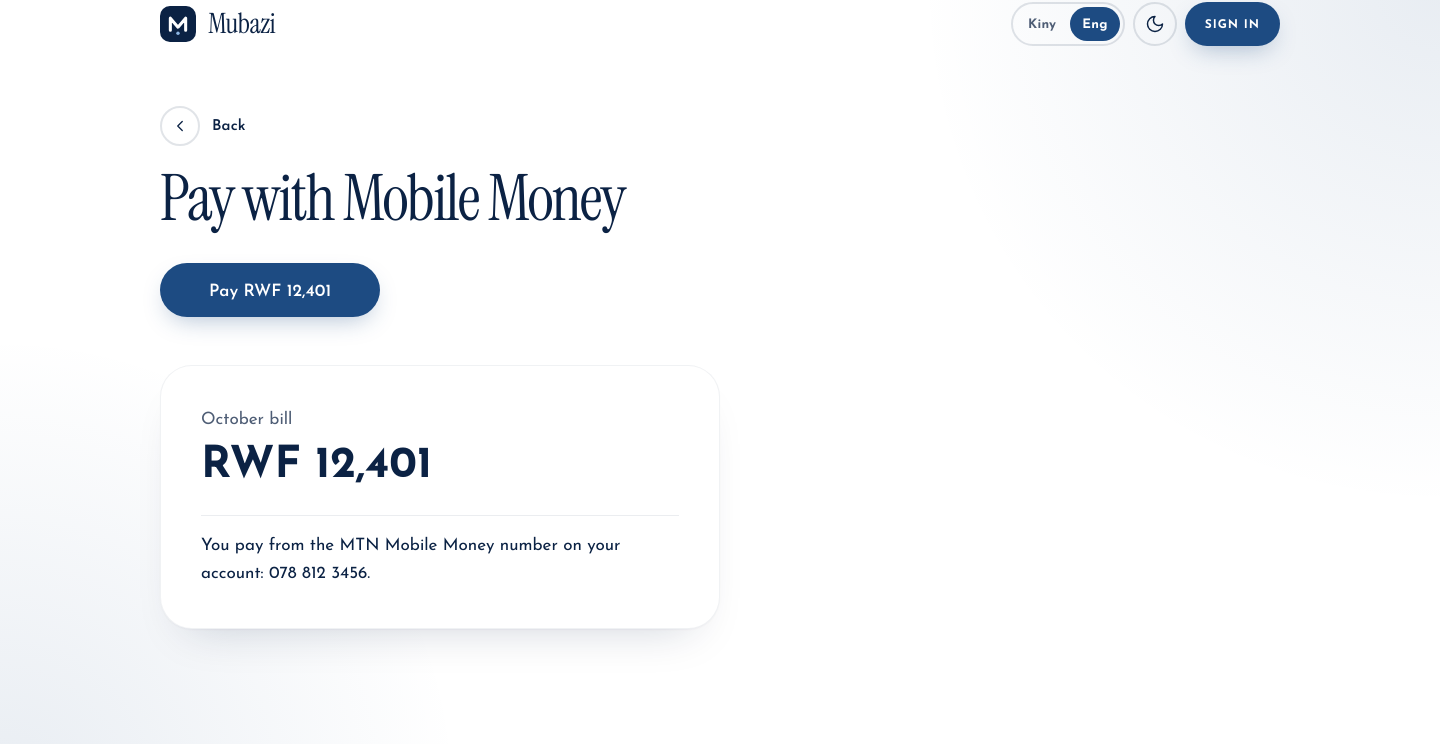
Test: Payment › when paying by MoMo Pay, should show the code to dial, then wait for WASAC instead of saying paid
Click the button "Pay RWF 12,401" at {"x": 270, "y": 290}, box [160,263,380,317]
(page scrolled)
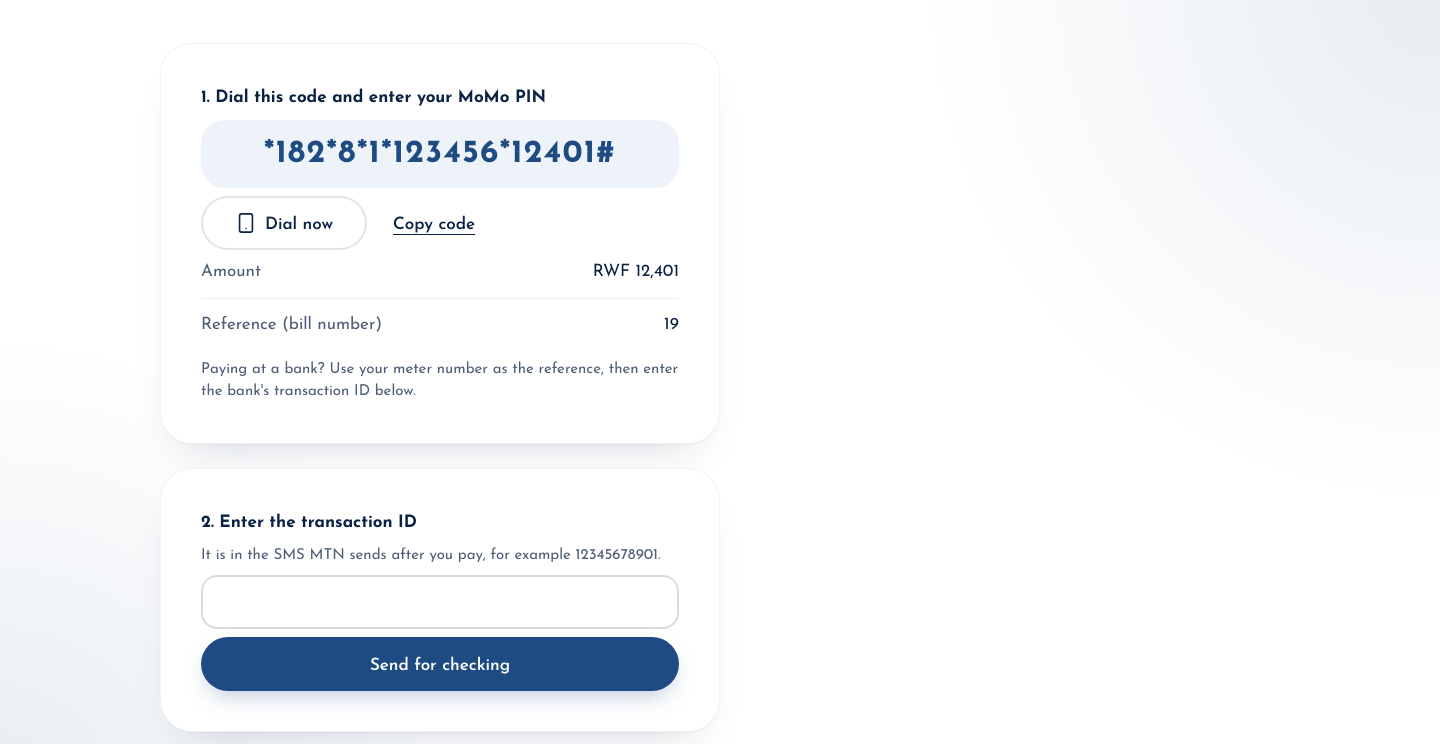
Now the text "*182*8*1*123456*12401#" is shown, box [264,138,616,170]
Type "no!" into the field labelled "2. Enter the transaction ID" at {"x": 440, "y": 602}, box [201,575,679,629]
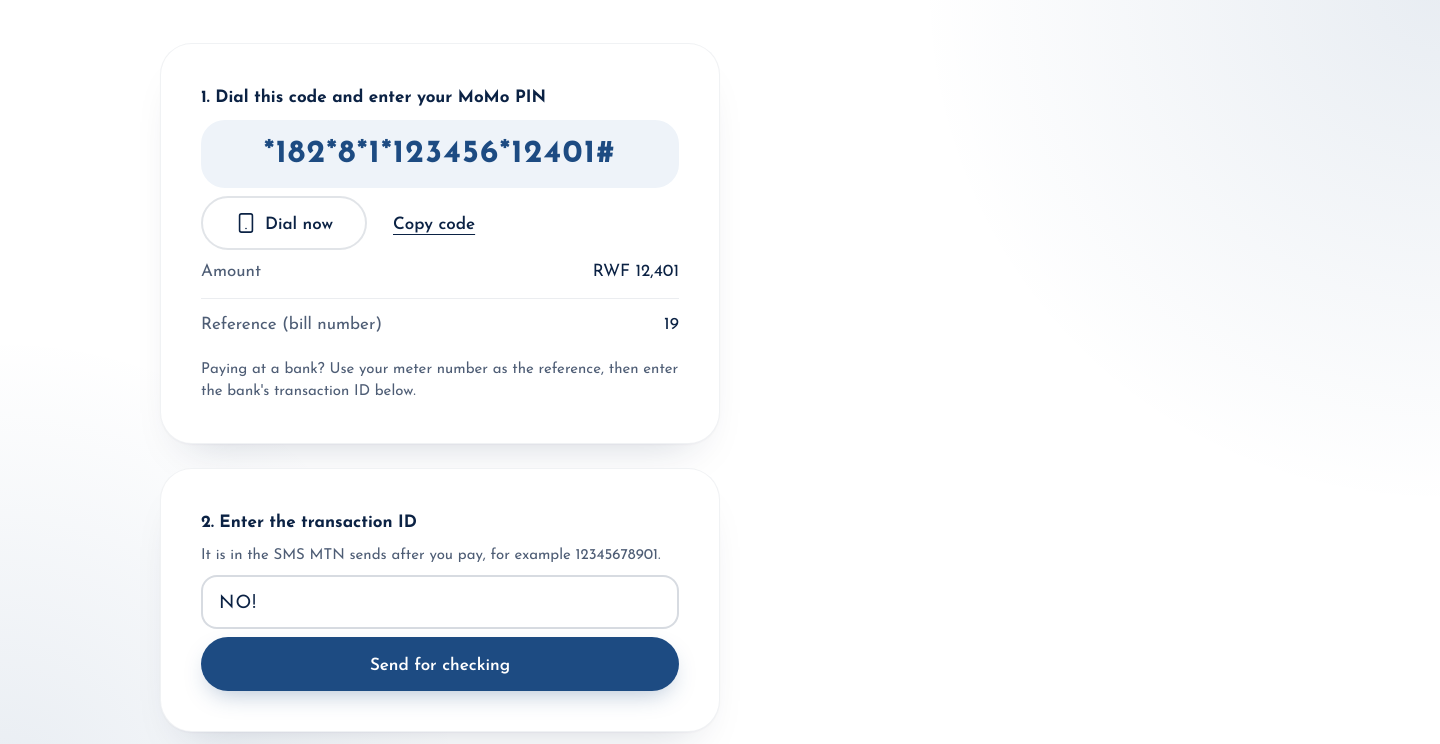
Click the button "Send for checking" at {"x": 440, "y": 664}, box [201,637,679,691]
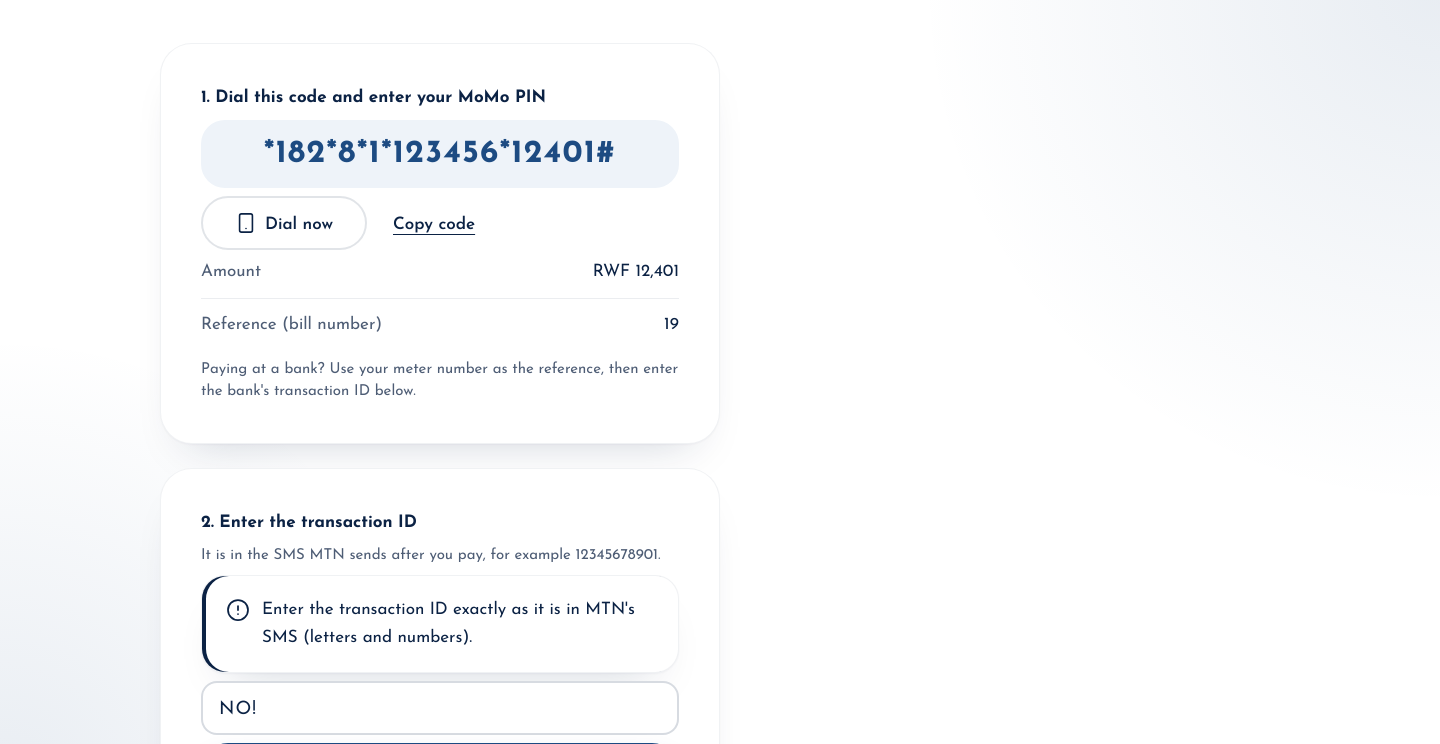
Now the text "exactly as it is in MTN's SMS" is shown, box [262,601,635,646]
Replace the text in the field labelled "2. Enter the transaction ID" with "MP12345678" at {"x": 440, "y": 708}, box [201,681,679,735]
(page scrolled)
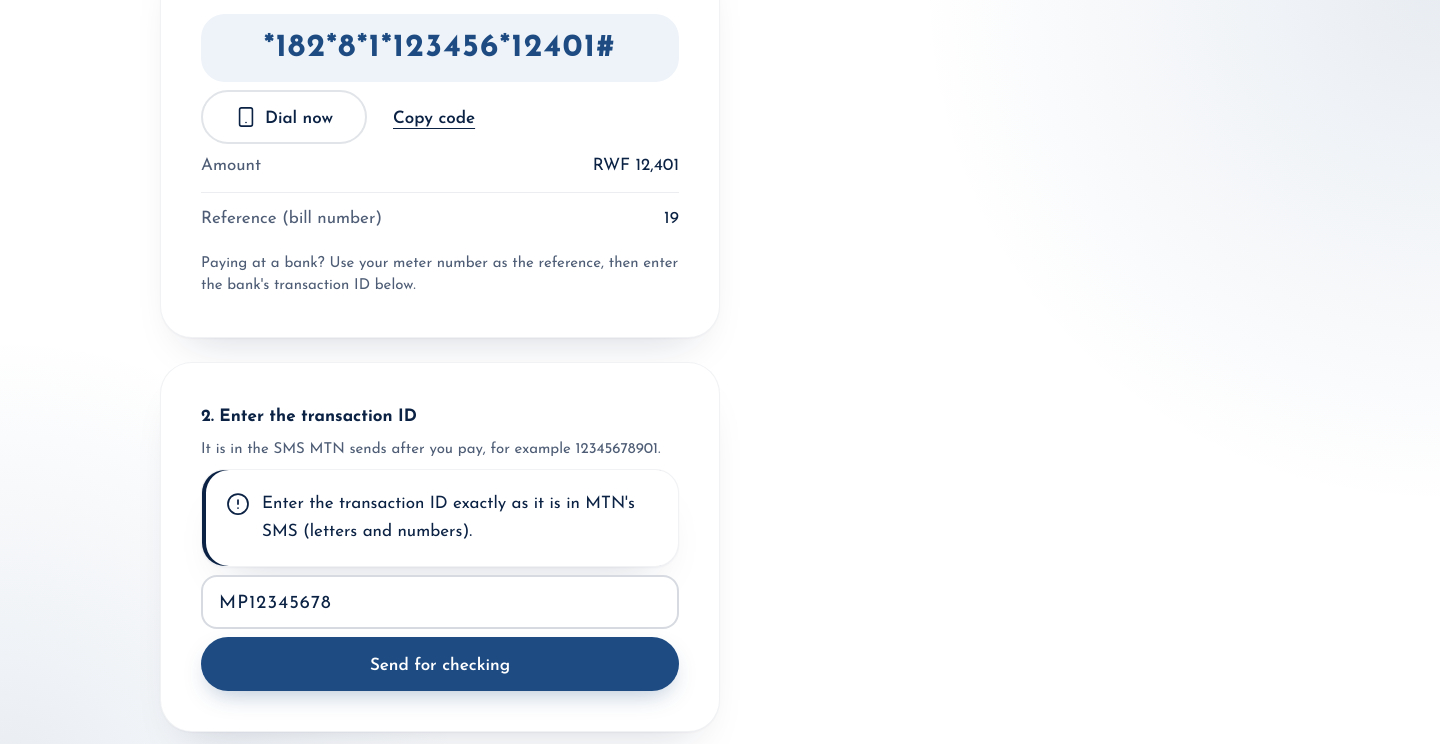
Click the button "Send for checking" at {"x": 440, "y": 664}, box [201,637,679,691]
(page scrolled)
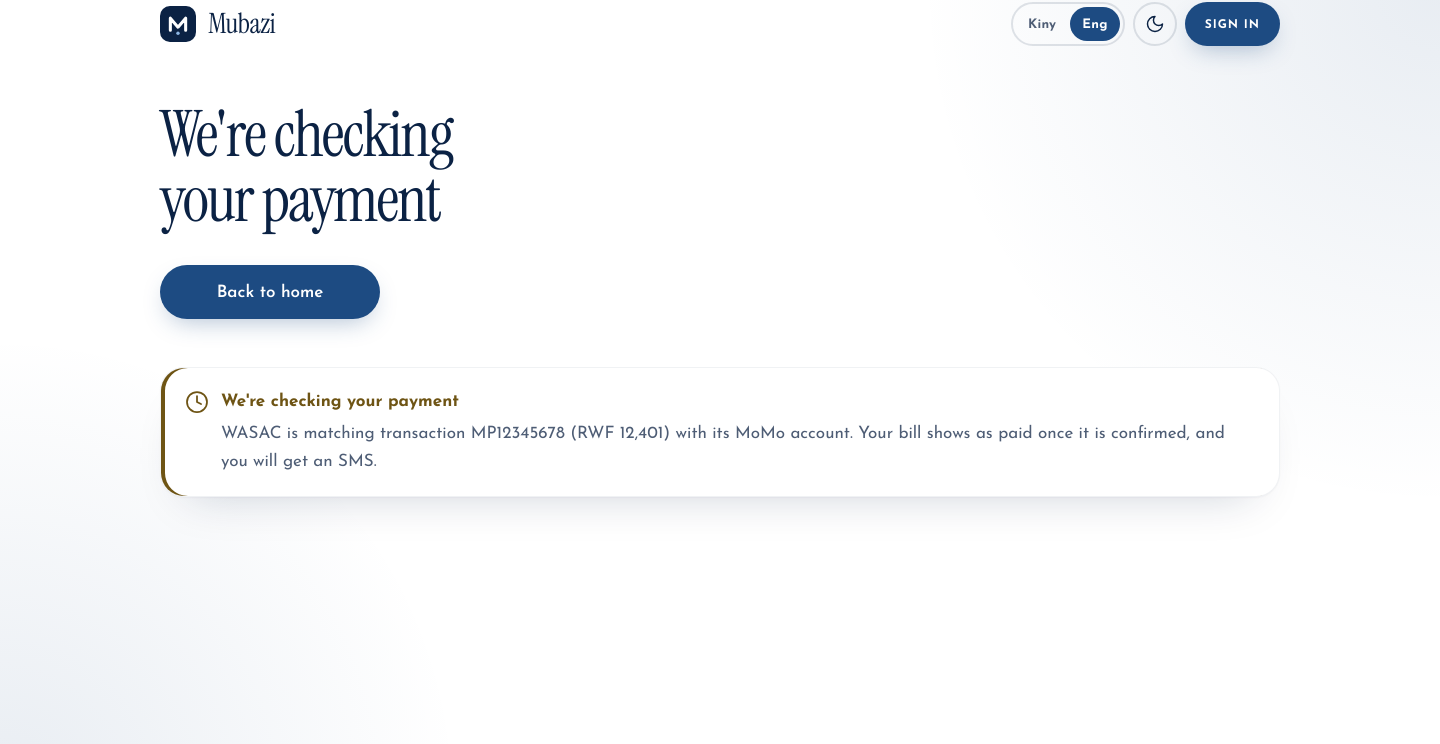
Now the heading "We're checking your payment" is shown, box [160,93,452,241]
